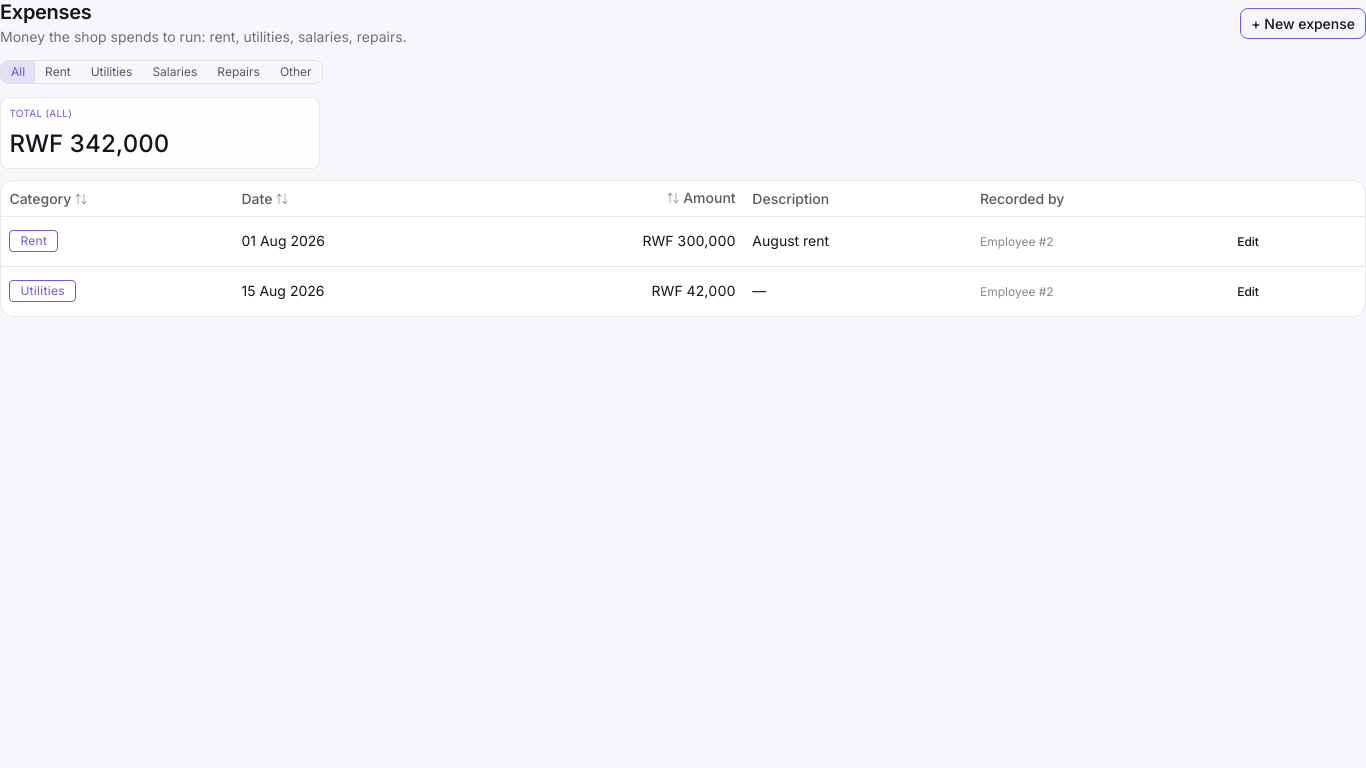
ExpensesPageClient › opens the edit dialog pre-filled when Edit is clicked
The width and height of the screenshot is (1366, 768).
Expected: the text "August rent" is shown, left=744, top=216, right=972, bottom=266
Click the button "Edit" in the row of "01 Aug 2026": (1248, 241) left=1226, top=227, right=1270, bottom=256
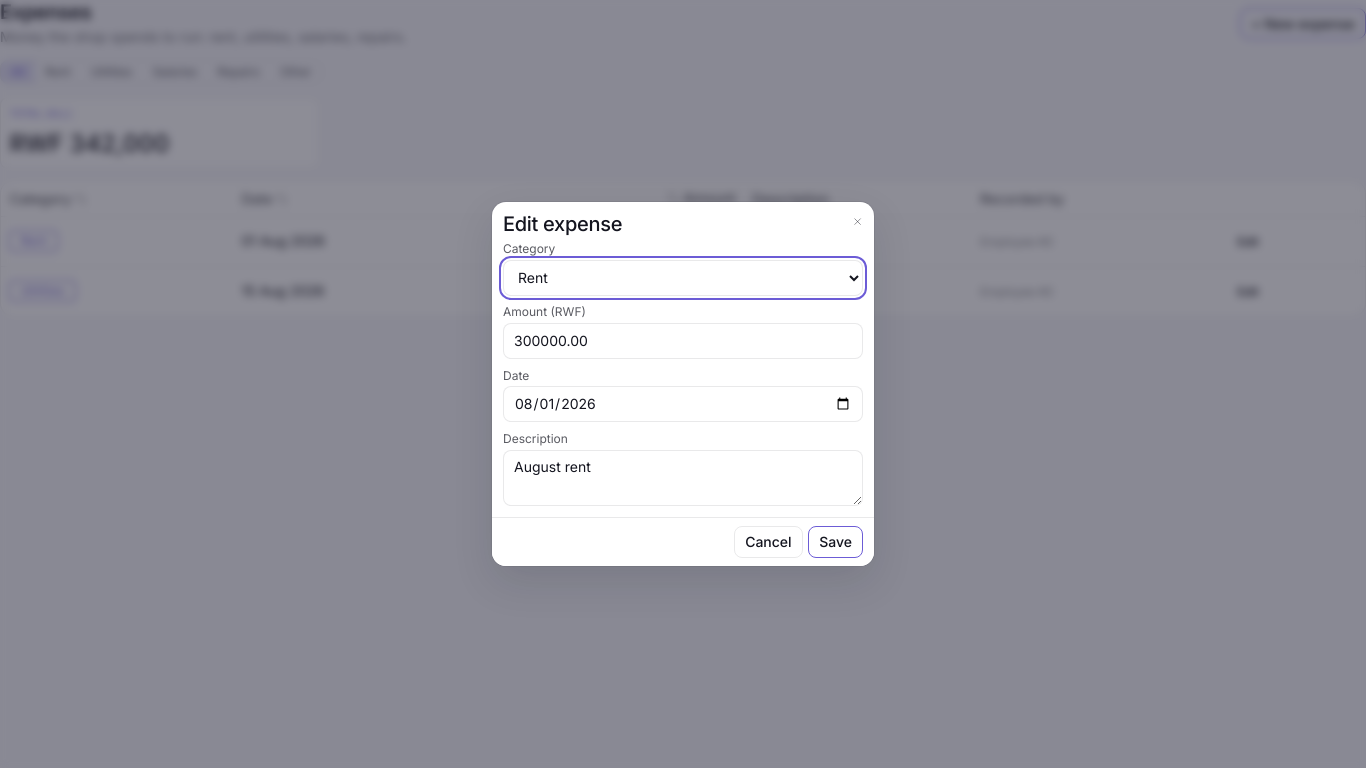
Now the dropdown labelled "Category" shows "Rent", box left=503, top=260, right=863, bottom=296
